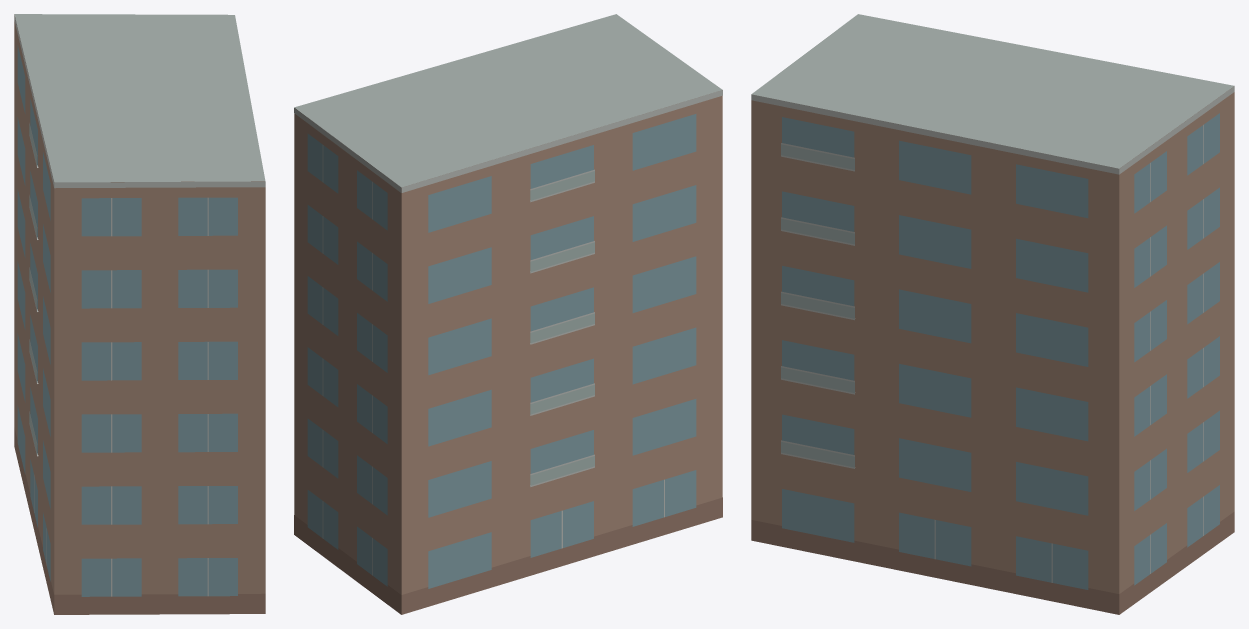
The model's file is survey-upis-32656136.glb.
3 renders of one model, left to right at view 1: azimuth 30°, elevation 25°; view 2: azimuth 150°, elevation 25°; view 3: azimuth 270°, elevation 25°, orthographic. The views are drawn at different scales.
Visible parts, largest first — view 1: survey-upis-32656136.tmp; view 2: survey-upis-32656136.tmp; view 3: survey-upis-32656136.tmp.
Part boxes in pixels (x1,y1,x2,y2): survey-upis-32656136.tmp: [14, 14, 265, 614]; survey-upis-32656136.tmp: [294, 14, 722, 614]; survey-upis-32656136.tmp: [751, 14, 1234, 614].
Size of the model in its own units: 13.61 by 18.3 by 17.98.
